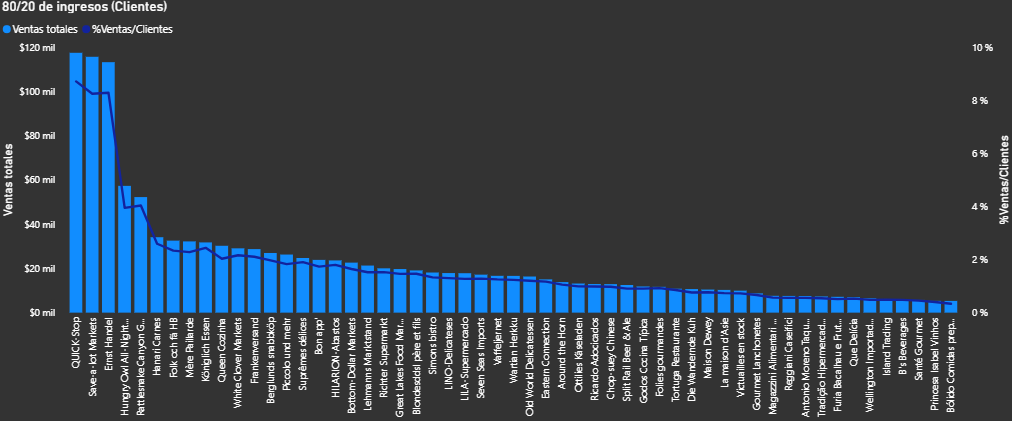

The dashboard page shown, as its layout file describes it:
{"tool":"powerbi","page":{"name":"80/20 gráfico","canvas":[1280,1000],"ordinal":2},"visuals":[{"type":"lineClusteredColumnComboChart","title":"80/20 de ingresos (Clientes)","fields":{"Category":["DimCustomer.Cliente"],"Y":["FACTSales.Ventas totales"],"Y2":["FACTSales.%Ventas/Clientes"]},"box":[0,177.6,1279.6,546.6],"z":14001}]}

Visuals, with their boxes on the page's 1280x1000 design canvas (x1, y1, x2, y2). These are canvas units, not pixel positions in the 1012x421 screenshot, which may show the page scaled, cropped or inside an application window:
"80/20 de ingresos (Clientes)" lineClusteredColumnComboChart: rect(0, 178, 1280, 724)
